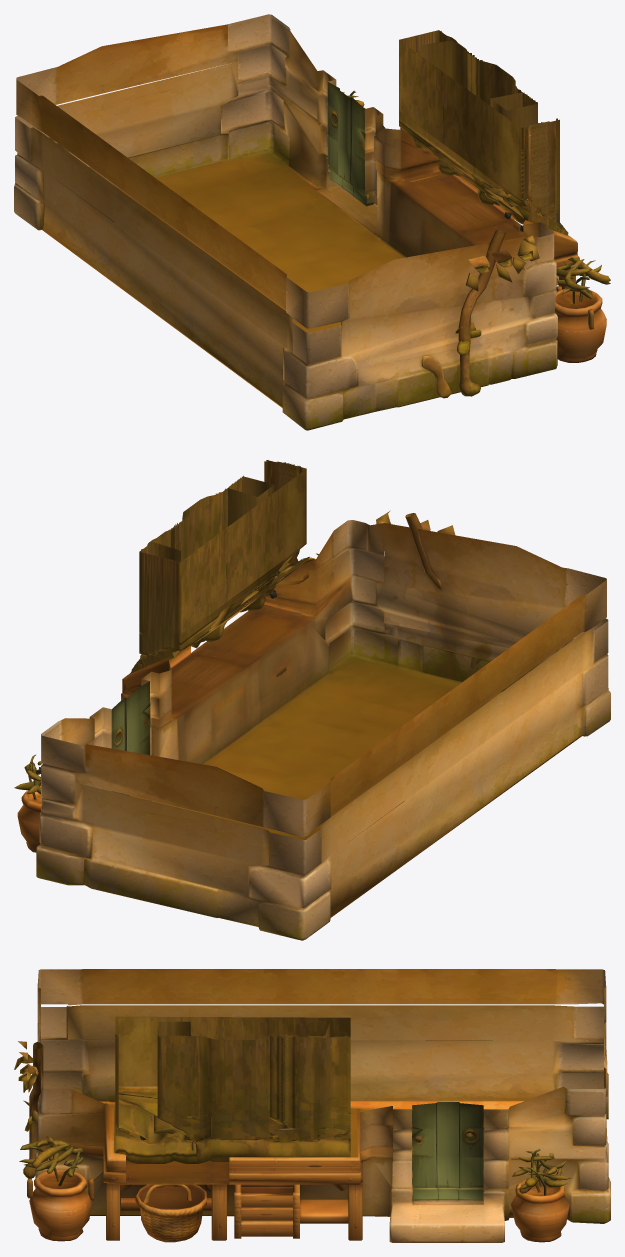
The picture shows the model from 3 angles, top to bottom: view 1: azimuth 30°, elevation 25°; view 2: azimuth 150°, elevation 25°; view 3: azimuth 270°, elevation 25°; orthographic projection. The views are drawn at different scales.
Visible parts, largest first — view 1: tripo_node_d14b69f0-0f24-4818-aed9-22b608c307f1; view 2: tripo_node_d14b69f0-0f24-4818-aed9-22b608c307f1; view 3: tripo_node_d14b69f0-0f24-4818-aed9-22b608c307f1.
Part boxes in pixels (bbox=[...]): tripo_node_d14b69f0-0f24-4818-aed9-22b608c307f1: bbox=[14, 14, 610, 430]; tripo_node_d14b69f0-0f24-4818-aed9-22b608c307f1: bbox=[14, 460, 610, 940]; tripo_node_d14b69f0-0f24-4818-aed9-22b608c307f1: bbox=[14, 969, 610, 1242].
Bounding box in the file's own units: 0.5871 × 0.3777 × 0.9922.
1 material, 1 textured.
